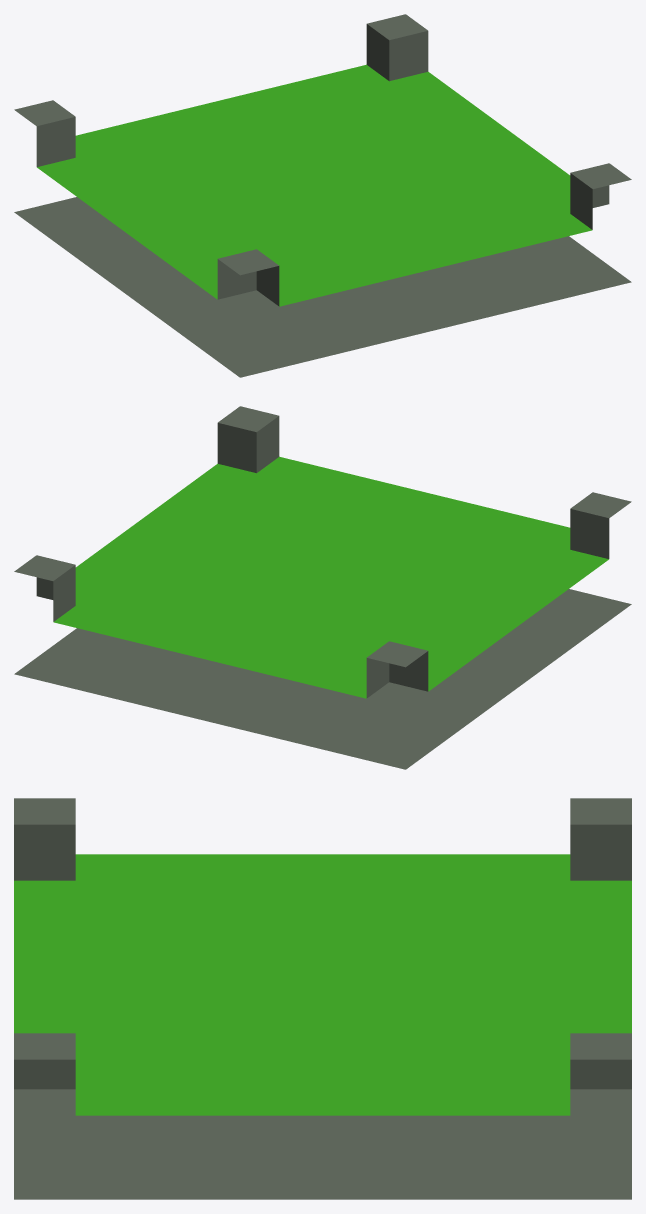
Rendered from Crossroads.fbx.
The picture shows the model from 3 angles, top to bottom: view 1: azimuth 30°, elevation 25°; view 2: azimuth 150°, elevation 25°; view 3: azimuth 270°, elevation 25°; orthographic projection. The views are drawn at different scales.
Visible parts, largest first — view 1: Cross4Corners.002; view 2: Cross4Corners.002; view 3: Cross4Corners.002.
Part boxes in pixels (<box>): Cross4Corners.002: <box>14,14,631,377</box>; Cross4Corners.002: <box>14,406,631,769</box>; Cross4Corners.002: <box>14,798,631,1199</box>.
Size of the model in its own units: 200 by 50 by 200.
